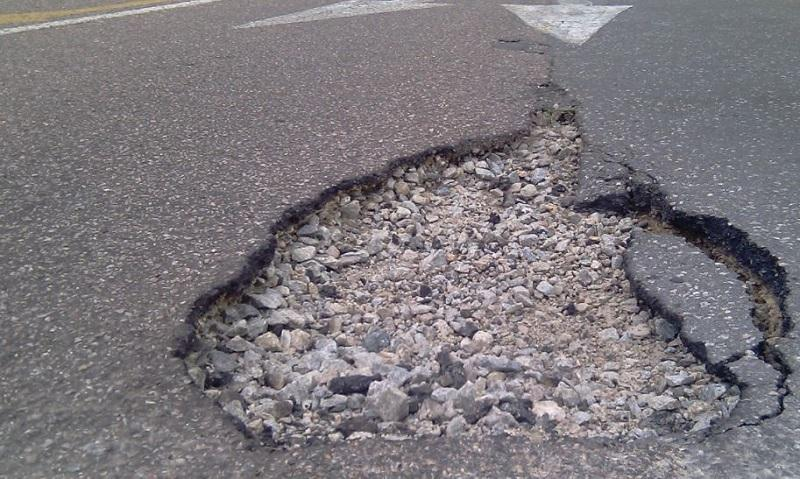Pothole: (144, 68, 799, 467)
